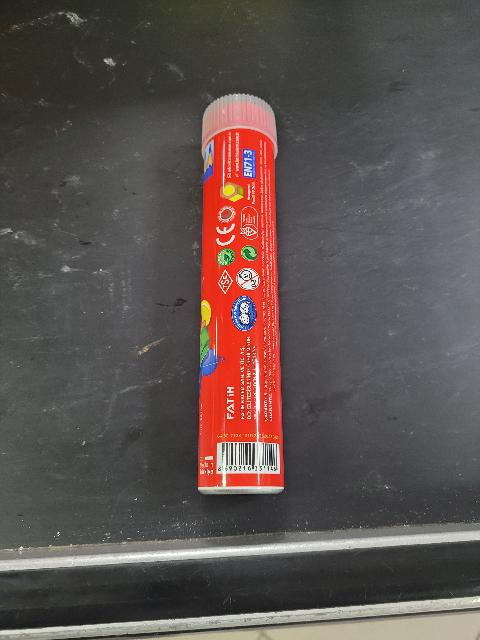Metal: (200, 139, 285, 506)
Plastik: (197, 80, 292, 135)
